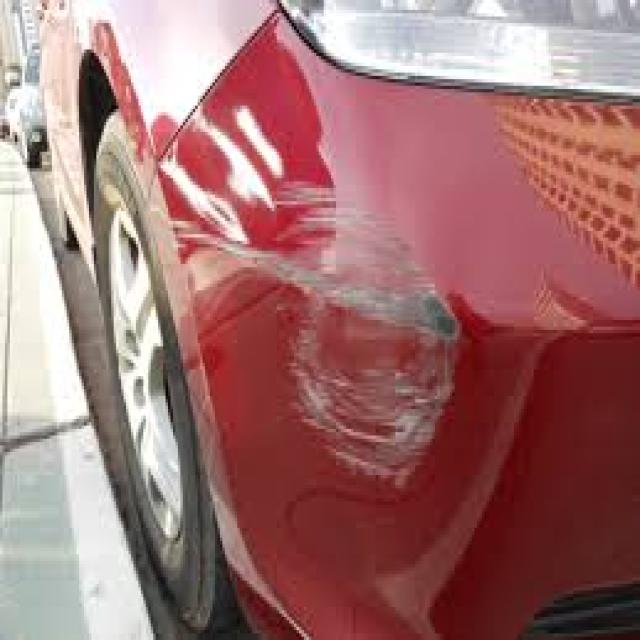Scratch: (304, 181, 482, 488)
